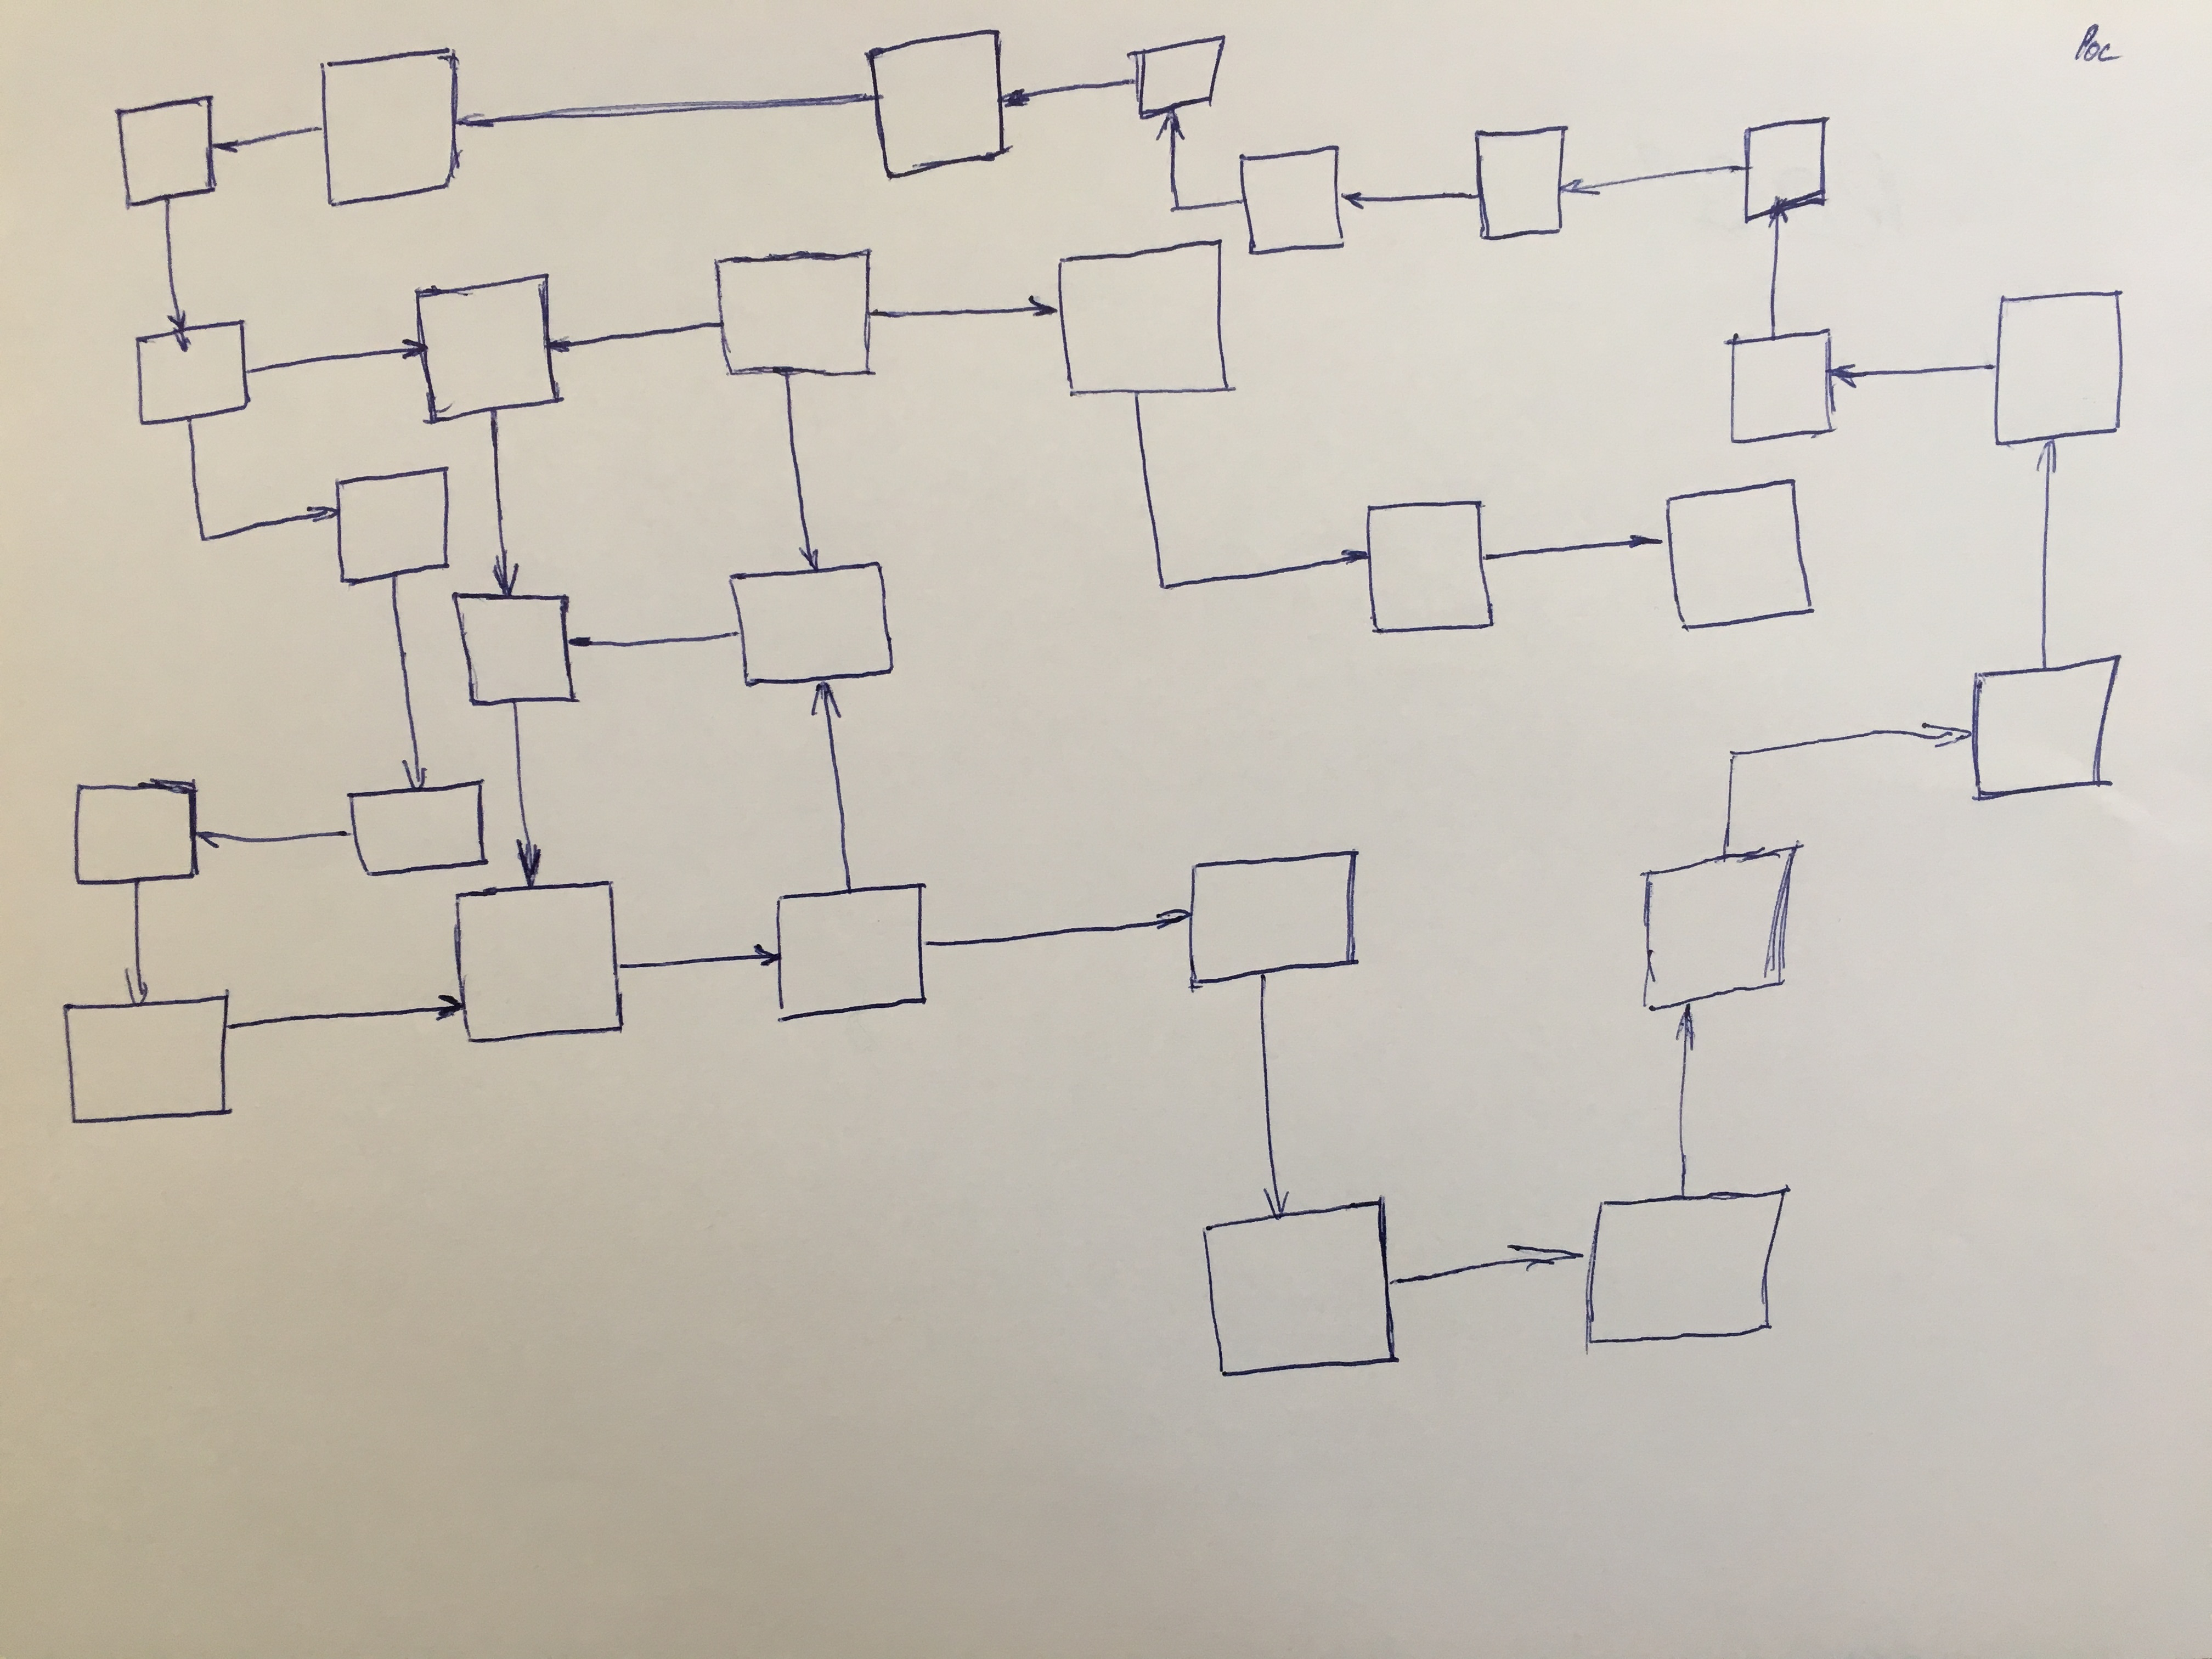arrow: (1489, 1229, 1608, 1281), (502, 823, 554, 906), (479, 545, 533, 620), (1909, 716, 1986, 760), (806, 667, 846, 744), (1315, 540, 1390, 580), (1552, 166, 1625, 206), (1667, 986, 1703, 1066), (118, 962, 164, 1026), (390, 748, 437, 809), (420, 986, 488, 1028), (1252, 1173, 1298, 1236), (1615, 528, 1681, 570), (737, 932, 792, 979), (444, 105, 512, 141), (1015, 288, 1076, 328), (181, 823, 247, 859), (158, 303, 200, 361), (528, 326, 594, 361), (383, 328, 441, 368), (1818, 359, 1885, 392), (294, 495, 350, 533), (1143, 901, 1204, 936), (794, 530, 834, 582), (550, 627, 611, 660), (1336, 181, 1378, 221), (1160, 105, 1191, 153), (2041, 430, 2066, 493), (991, 85, 1038, 117), (200, 136, 246, 164), (1764, 192, 1789, 242)
